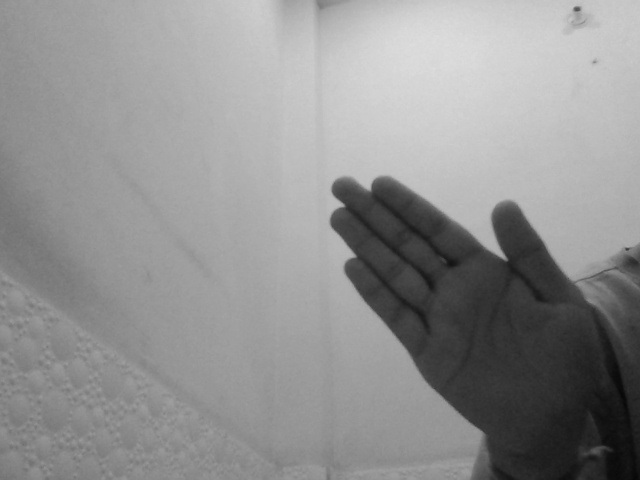Hello: (323, 178, 607, 478)
